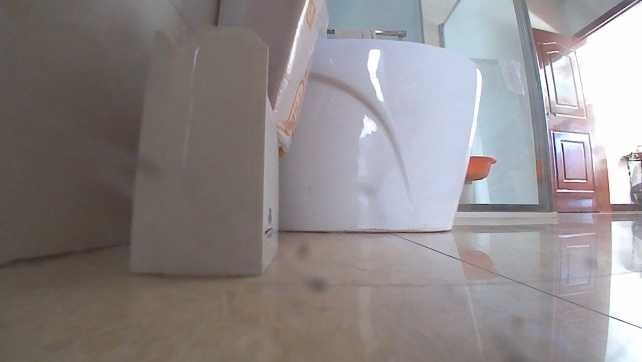door_anno: (528, 27, 615, 214)
toilet: (229, 0, 481, 241)
